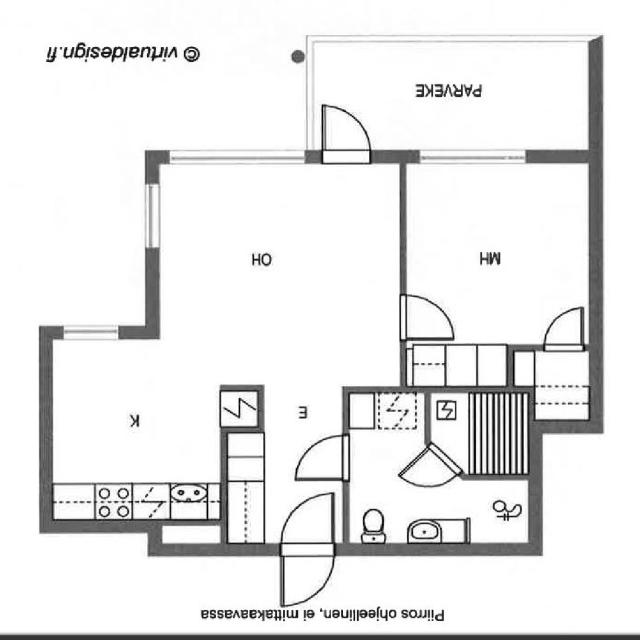door: (276, 484, 338, 604), (314, 101, 380, 166), (396, 290, 461, 342), (278, 548, 333, 607), (290, 428, 350, 481), (536, 301, 590, 354), (410, 450, 459, 489)
window: (163, 142, 308, 171), (414, 143, 532, 170), (135, 174, 167, 259), (56, 318, 128, 347)
zone: (152, 148, 406, 441), (402, 157, 595, 347), (45, 335, 231, 523), (346, 392, 436, 547), (429, 387, 533, 478), (400, 340, 511, 391), (523, 347, 593, 425)
